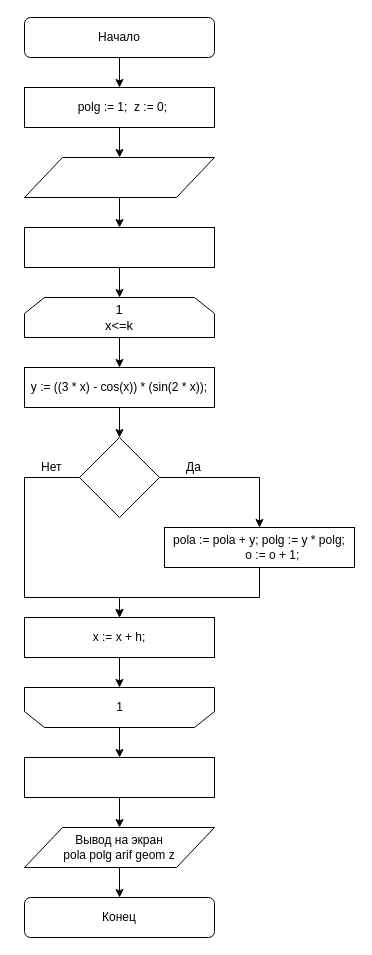
This 372x955 diagram has some shape labels left out. Each missing label, with the centre of its shape:
arif:=pola/o; geom:=exp(ln(polg)*o) z :=arif / geom;: the point at 119,777
readln(n, k, h); x := n;: the point at 119,247
y > 0: the point at 119,477
Введите три значения (n, k, h):: the point at 119,177
